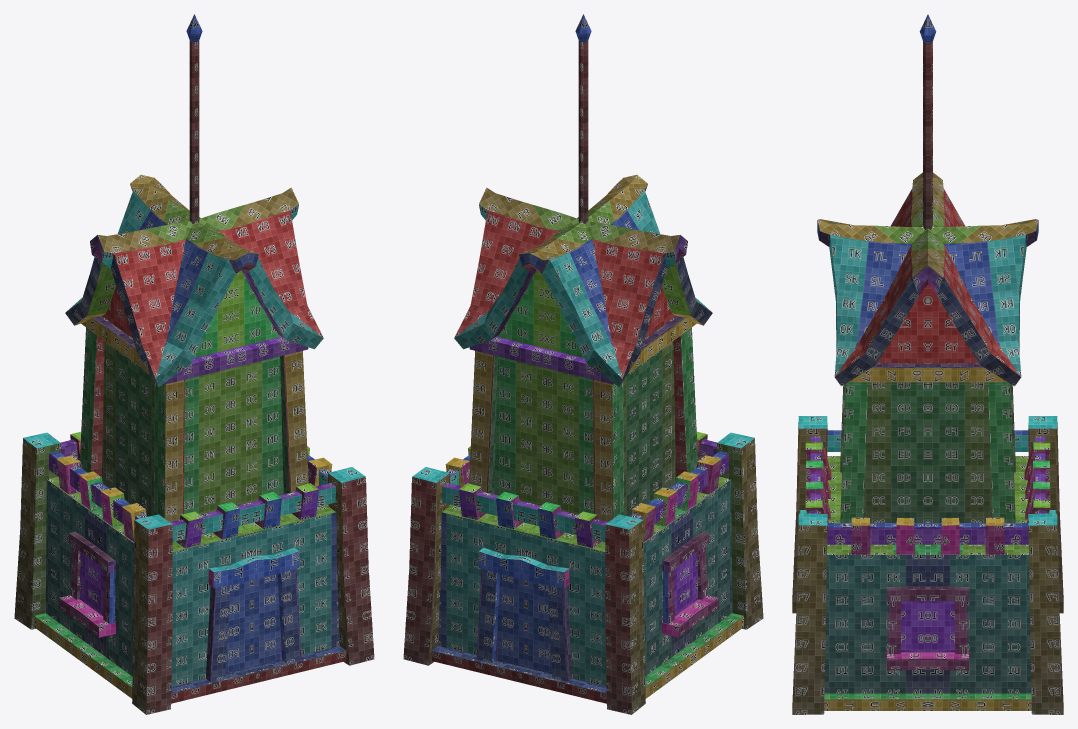
The model's file is palace .fbx.
3 renders of one model, left to right at view 1: azimuth 30°, elevation 25°; view 2: azimuth 150°, elevation 25°; view 3: azimuth 270°, elevation 25°, orthographic. The views are drawn at different scales.
Parts seen in each view (by area): view 1: palace; view 2: palace; view 3: palace.
Part boxes in pixels (x1,y1,x2,y2): palace: (14, 14, 374, 714); palace: (403, 14, 763, 714); palace: (792, 14, 1063, 714).
Bounding box in the file's own units: 703 × 1818 × 694.
